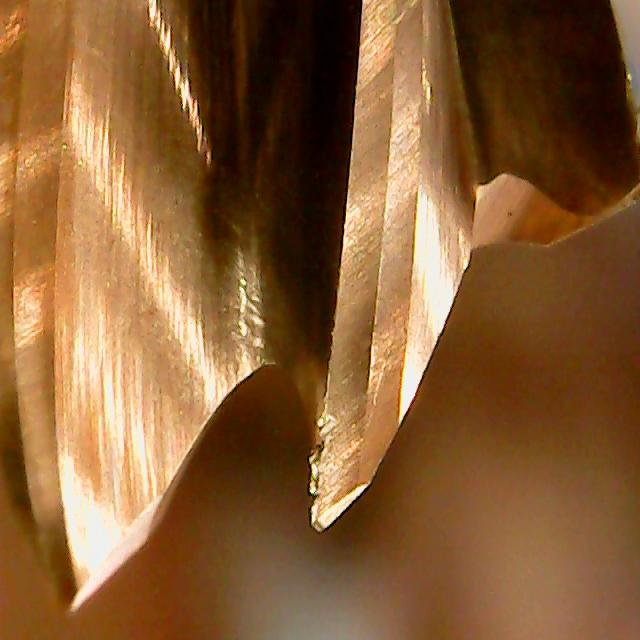Tool-wear-class-1: (302, 232, 406, 539)
